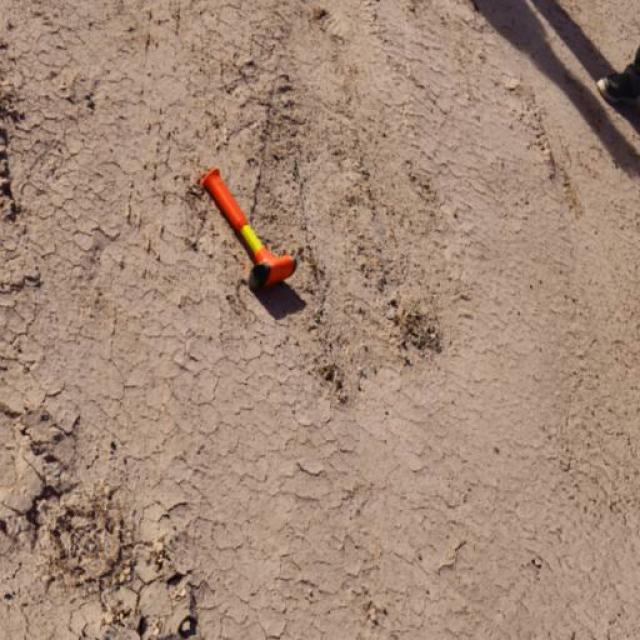mallet: (196, 165, 296, 291)
